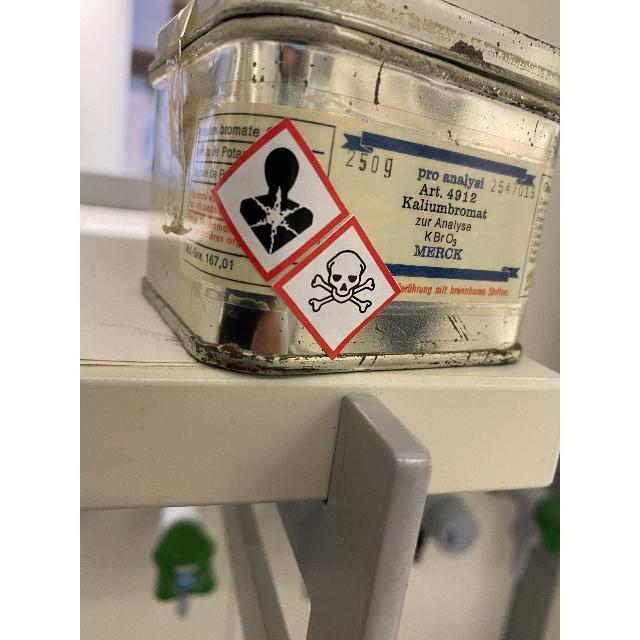acute toxicity: (308, 250, 376, 314)
serious health hazard: (239, 148, 313, 254)
